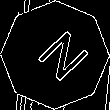N_SW: (23, 23, 87, 87)
